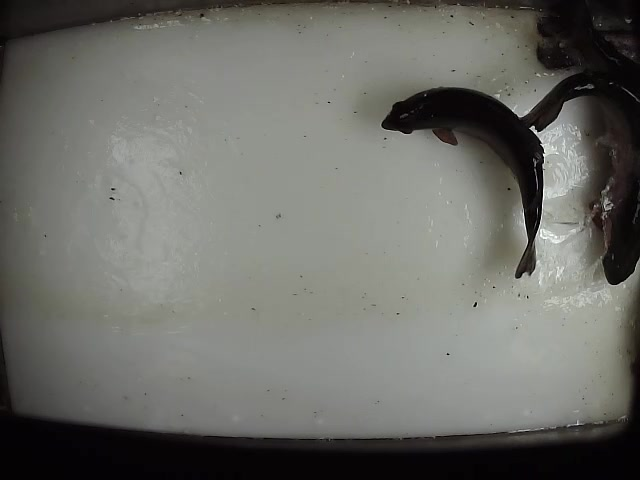fish: (380, 86, 545, 285), (515, 65, 640, 288)
